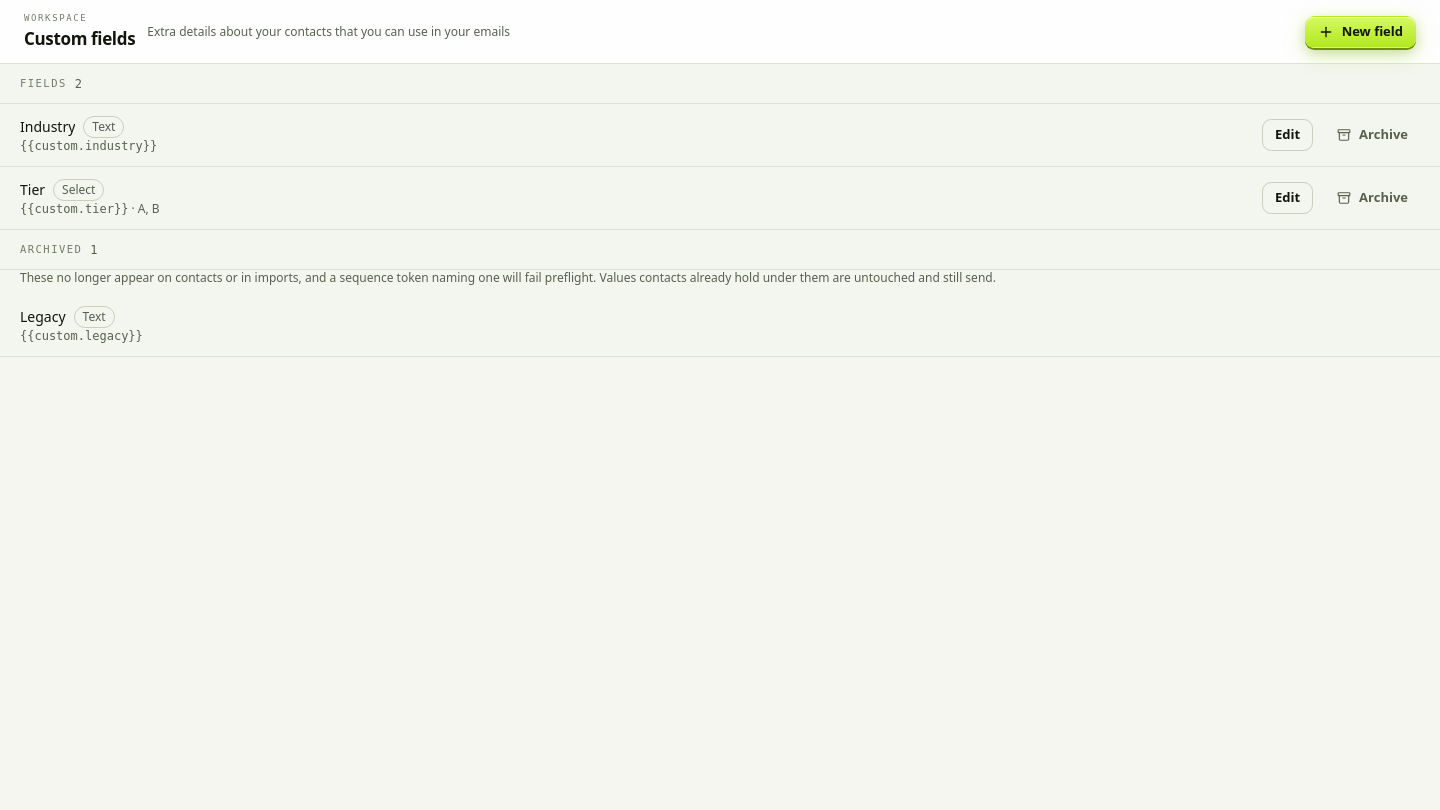
it: a failed archive surfaces the error instead of claiming success
The image size is (1440, 810).
Click the button "Archive" in the row of "{{custom.industry}}".
click(1373, 135)  # box left=1325, top=119, right=1420, bottom=151
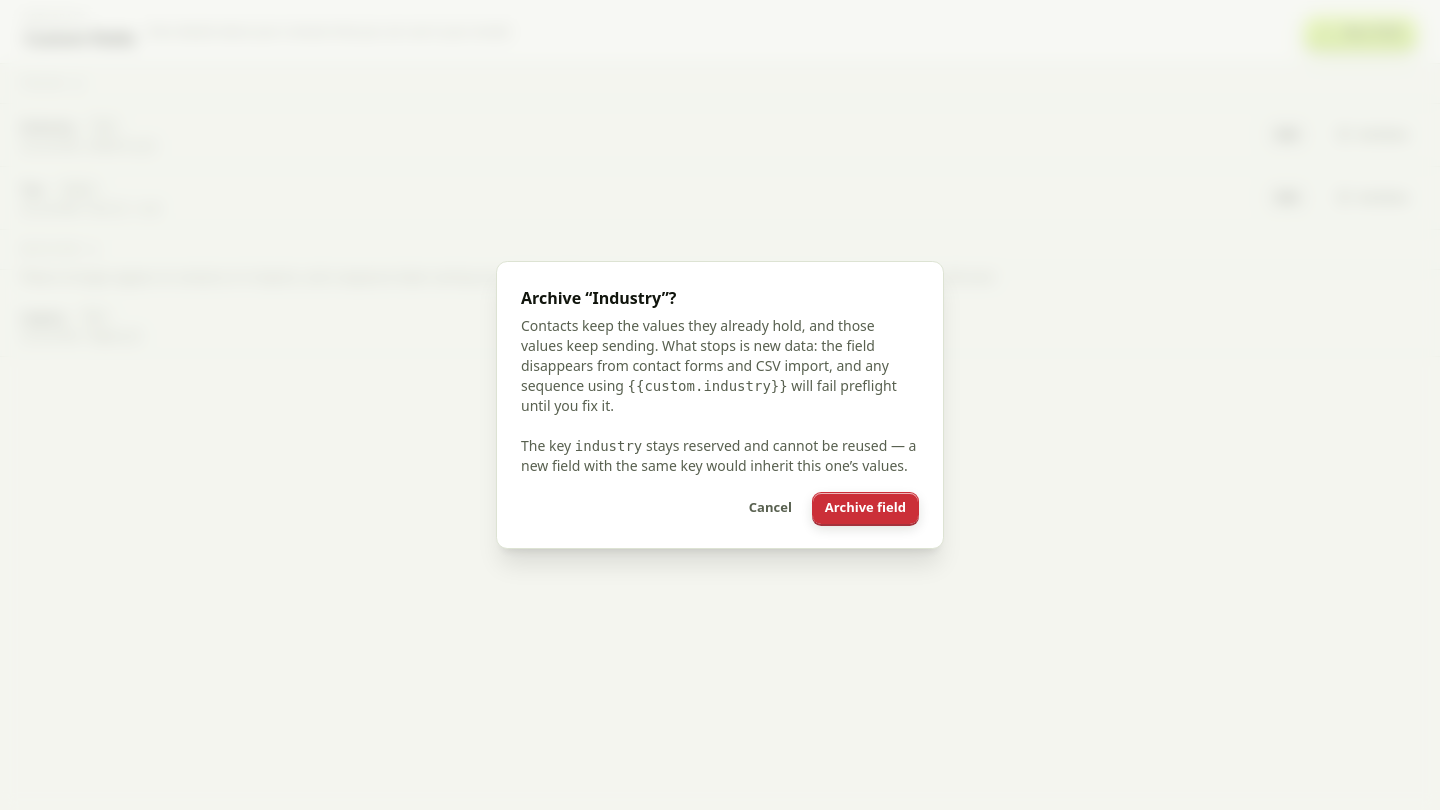
Click the button "Archive field".
click(865, 508)  # box left=812, top=492, right=919, bottom=524
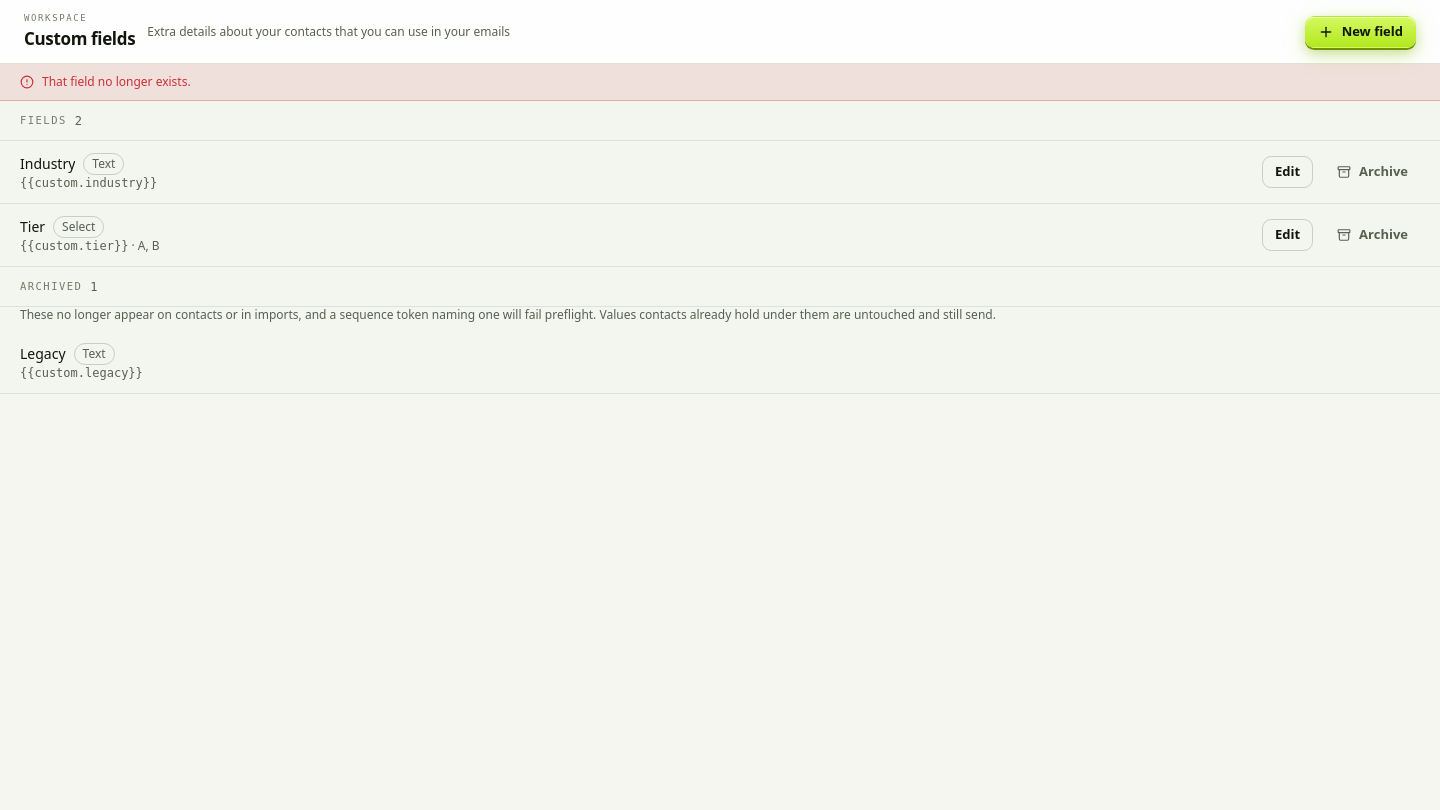
Expected: the text "That field no longer exists." is shown, left=0, top=64, right=1439, bottom=101
